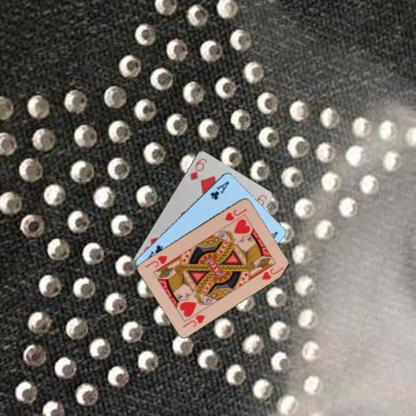6d: (187, 156, 208, 182)
Ac: (208, 178, 231, 200)
Jh: (180, 312, 206, 329), (222, 206, 248, 222)
